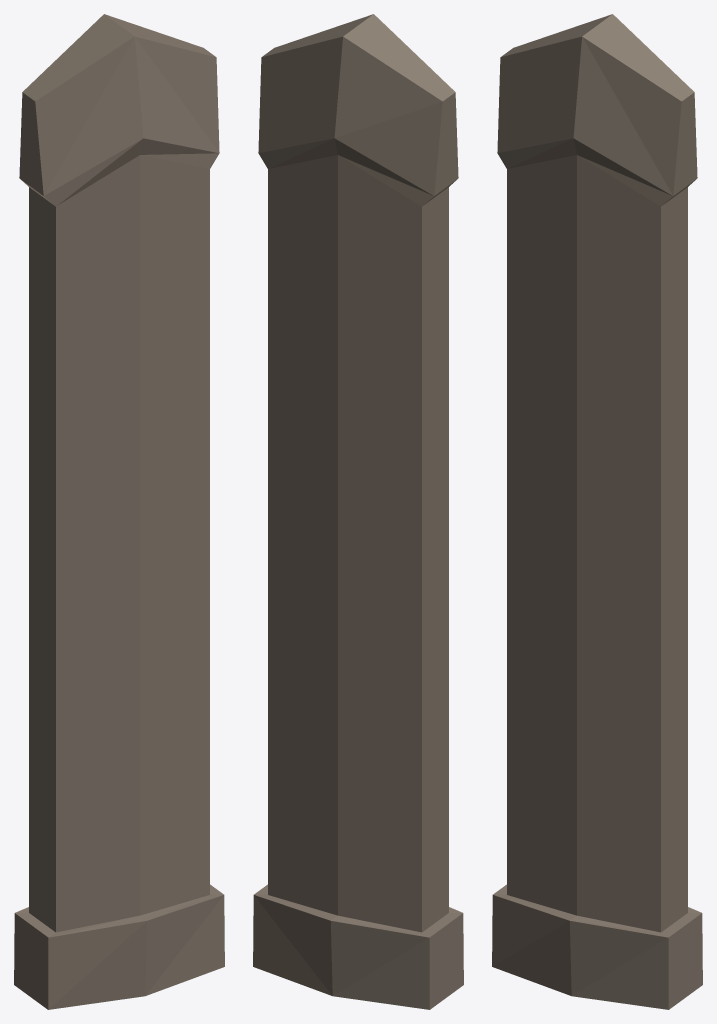
Rendered from SM_Wep_Shortsword_01_Sheath.glb.
3 views of the same model, side by side, from view 1: azimuth 30°, elevation 25°; view 2: azimuth 150°, elevation 25°; view 3: azimuth 330°, elevation 25° (orthographic).
Parts seen in each view (by area): view 1: SM_Wep_Shortsword_01_Sheath_00; view 2: SM_Wep_Shortsword_01_Sheath_00; view 3: SM_Wep_Shortsword_01_Sheath_00.
Part boxes in pixels (box(x1,y1,x2,y2)): SM_Wep_Shortsword_01_Sheath_00: box(14, 14, 224, 1009); SM_Wep_Shortsword_01_Sheath_00: box(253, 14, 463, 1009); SM_Wep_Shortsword_01_Sheath_00: box(492, 14, 702, 1009).
Bounding box in the file's own units: 0.1254 × 0.6294 × 0.0663.
Materials: 1 (1 with a texture image).
